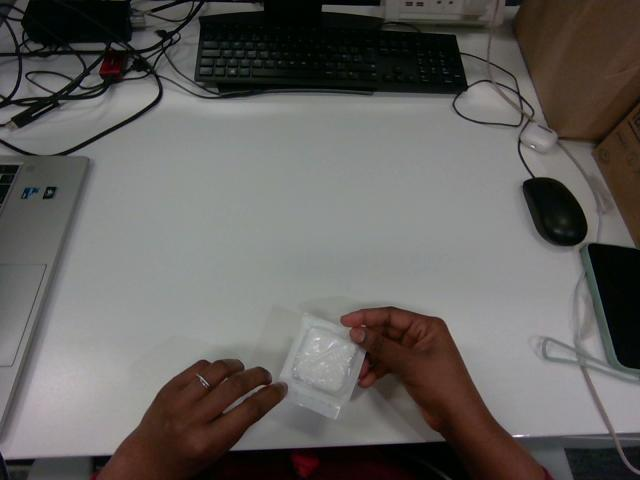gauze: (279, 314, 364, 418)
